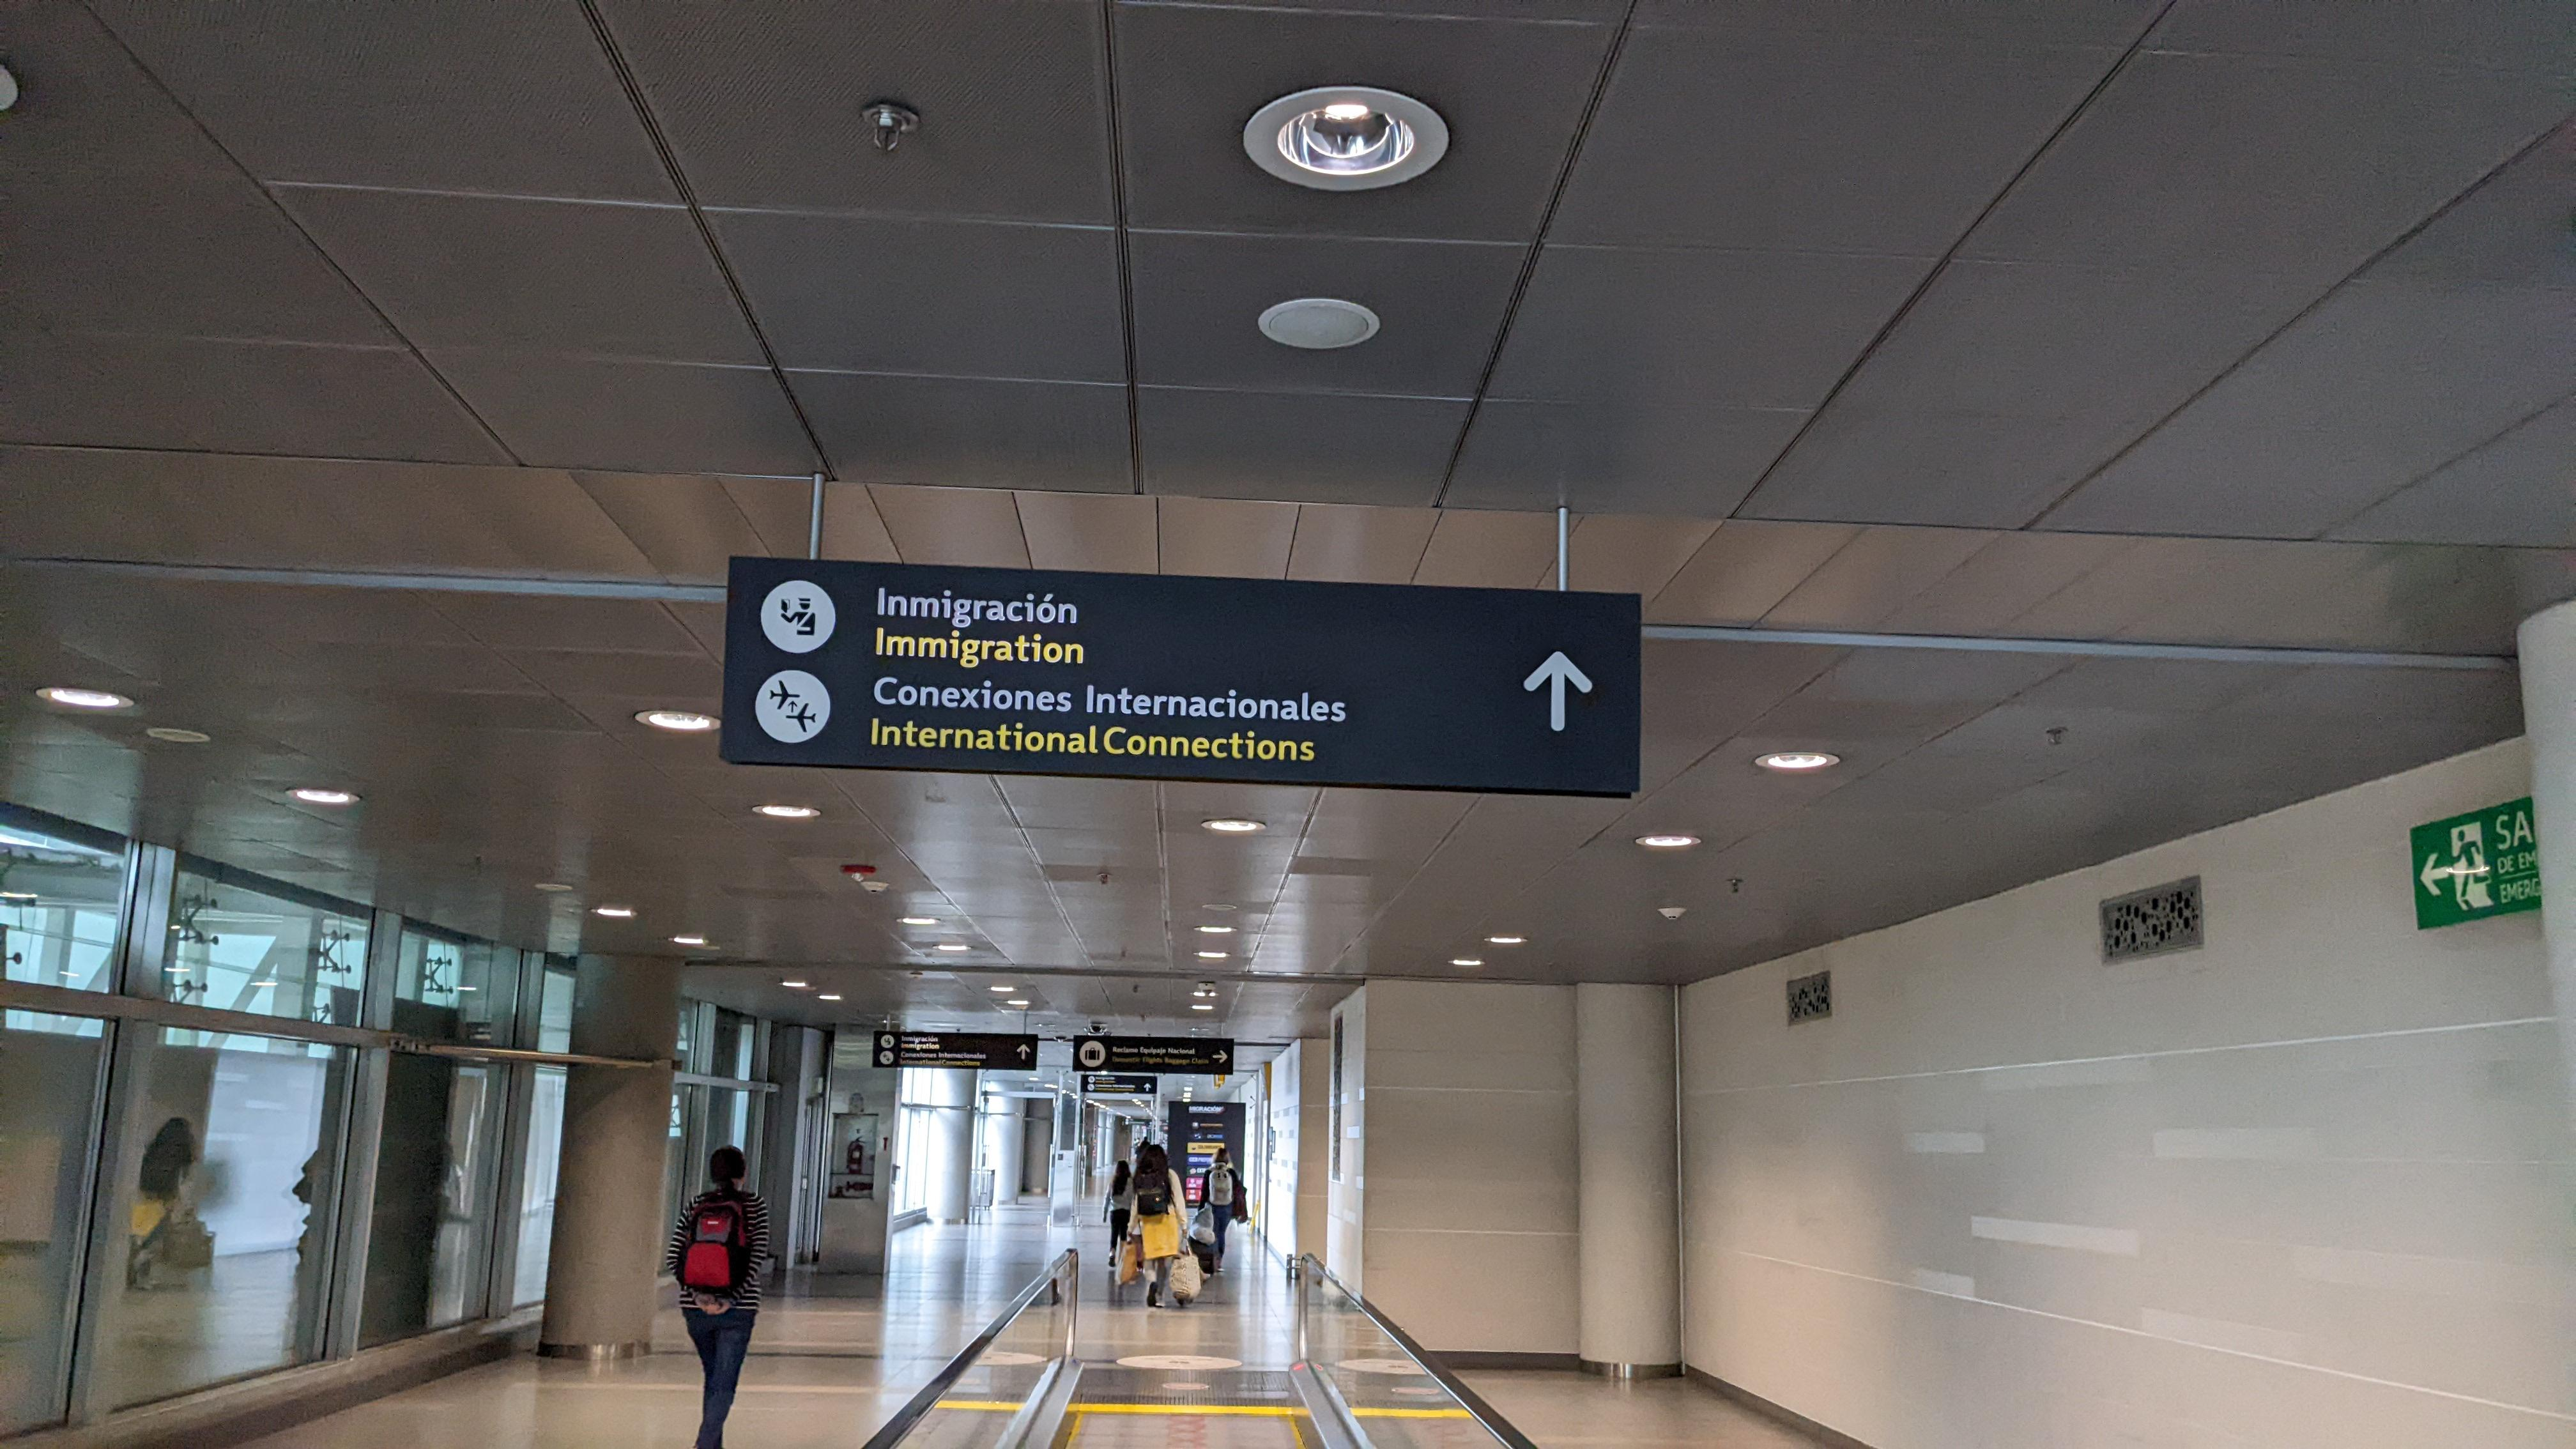baggage claim: (1085, 1047, 1100, 1062)
emergency exit: (2450, 823, 2498, 911)
emergency left arrow: (2419, 853, 2452, 897)
right arrow: (1212, 1049, 1230, 1063)
up arrow: (1522, 644, 1598, 736), (1016, 1044, 1031, 1060), (1143, 1083, 1152, 1092)
